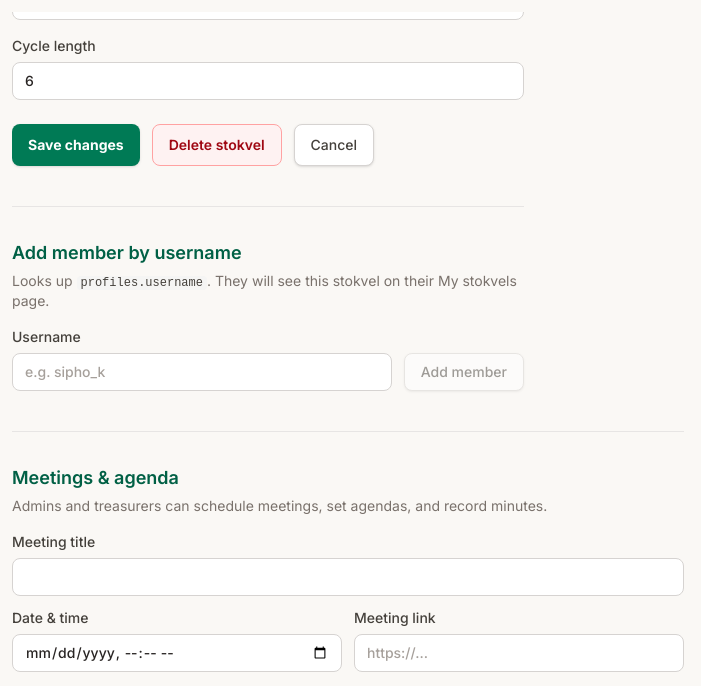
AdminEditStokvel › Add Member › handles add member error
The width and height of the screenshot is (701, 686).
(page scrolled)
Type "sipho" into the field with placeholder "e.g. sipho_k" at (202, 372), box [12,353,392,391]
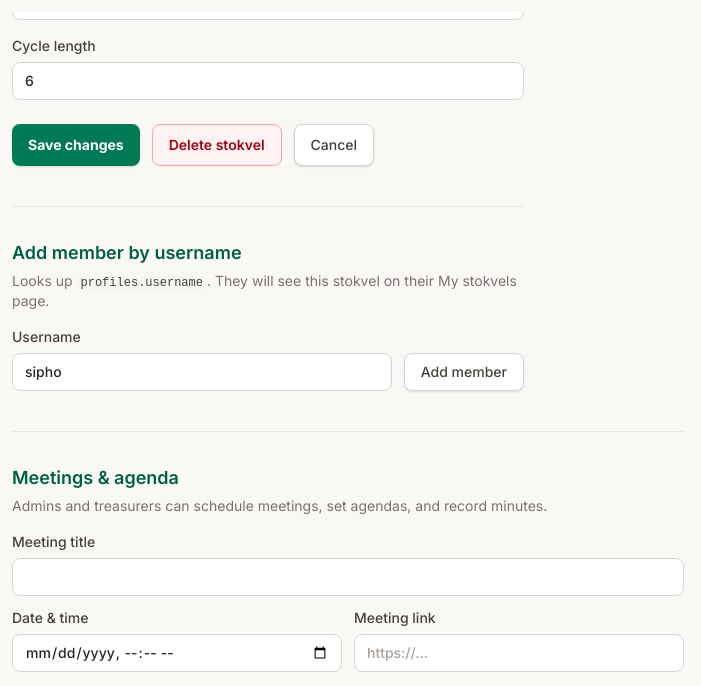
Click the button "Add member" at (464, 372), box [404,353,524,391]
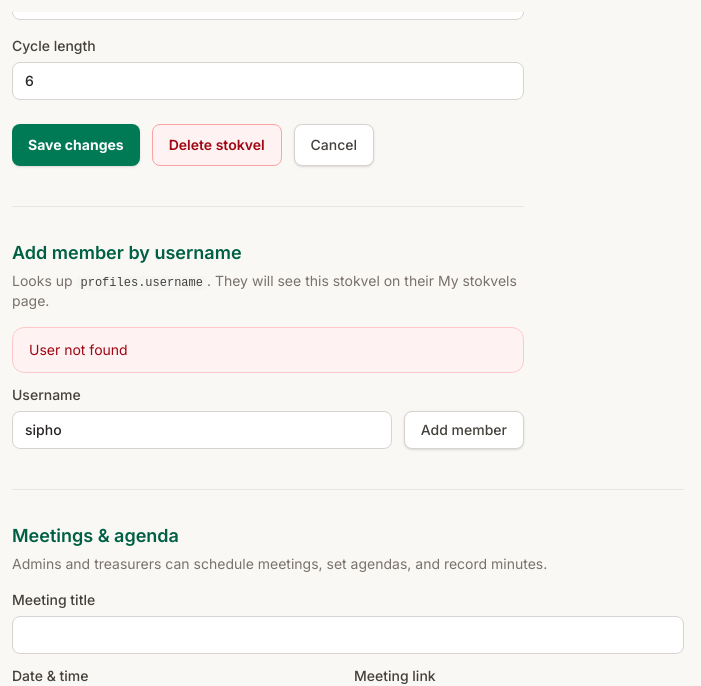
expect the text "User not found" is shown: met, box [12,327,524,373]
